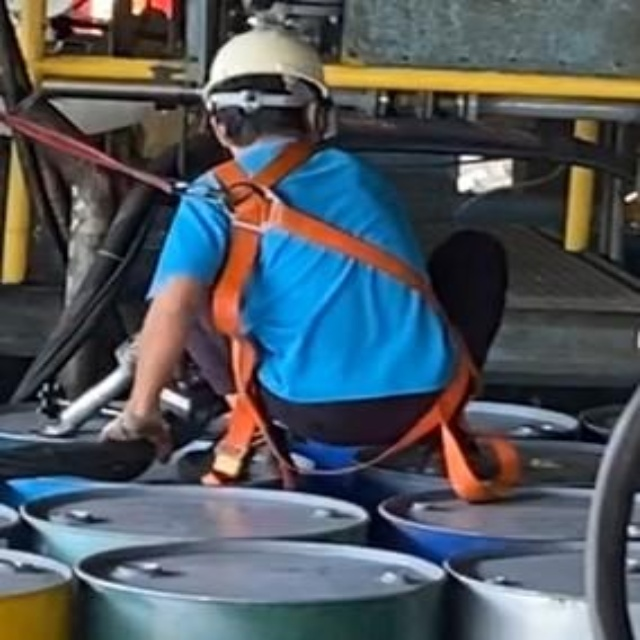Arnes_seguridad: (192, 137, 511, 497)
